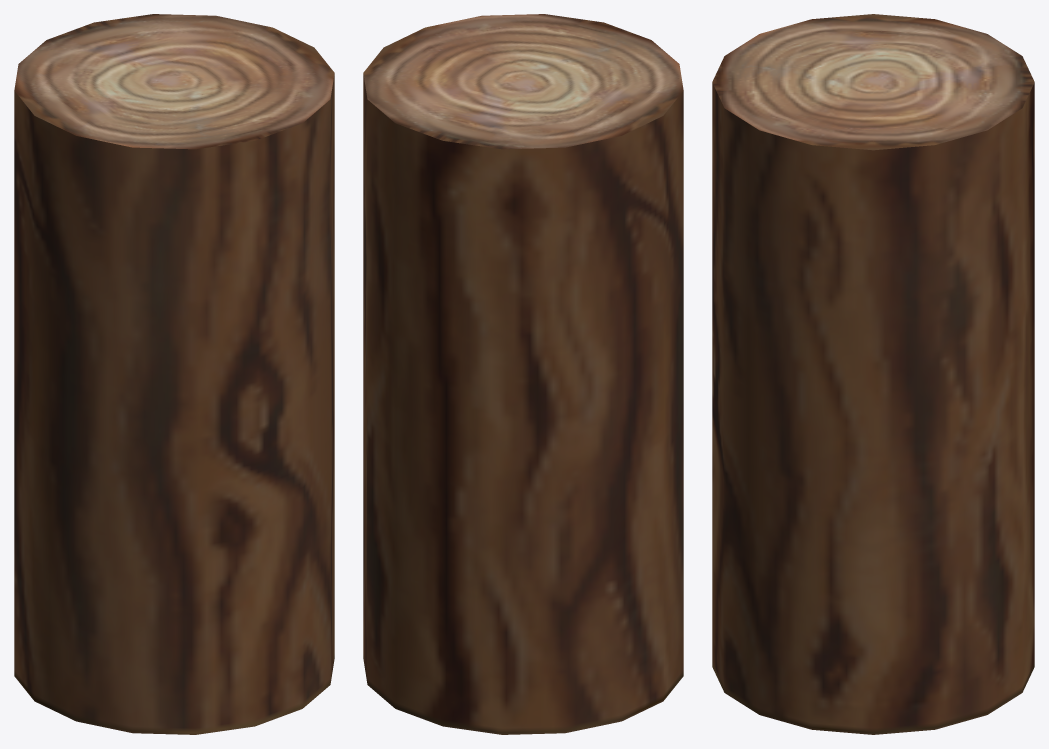
Rendered from log.glb.
3 renders of one model, left to right at view 1: azimuth 30°, elevation 25°; view 2: azimuth 150°, elevation 25°; view 3: azimuth 270°, elevation 25°, orthographic.
Visible parts, largest first — view 1: Log; view 2: Log; view 3: Log.
Part boxes in pixels (x1,y1,x2,y2): Log: (14,14,334,734); Log: (363,14,683,734); Log: (712,14,1034,734).
Bounding box in the file's own units: 1 × 2 × 1.
Materials: 1 (1 with a texture image).
